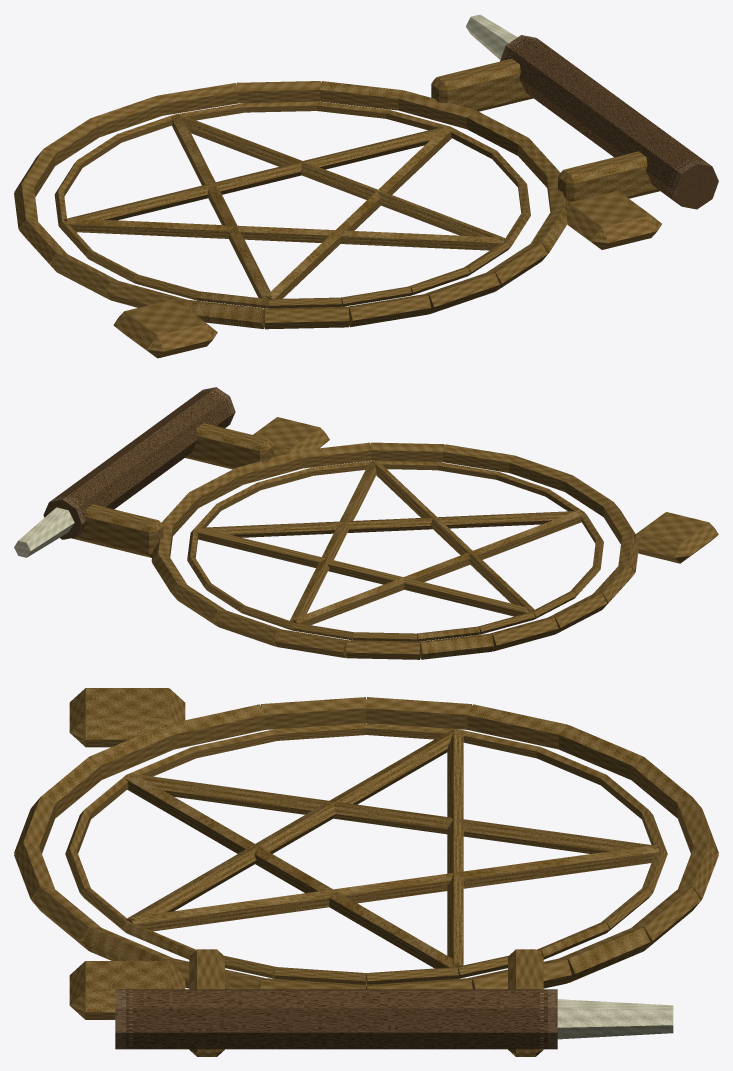
File: blender_chalk_sigil_kit_3.glb
3 views of the same model, one above another, from view 1: azimuth 30°, elevation 25°; view 2: azimuth 150°, elevation 25°; view 3: azimuth 270°, elevation 25° (orthographic). The views are drawn at different scales.
Parts seen in each view (by area): view 1: blender_chalk_sigil_kit_3; view 2: blender_chalk_sigil_kit_3; view 3: blender_chalk_sigil_kit_3.
Boxes of the visible parts, <box> form: blender_chalk_sigil_kit_3: <box>14,14,718,358</box>; blender_chalk_sigil_kit_3: <box>14,387,718,659</box>; blender_chalk_sigil_kit_3: <box>14,688,718,1056</box>.
Bounding box in the file's own units: 0.213 × 0.018 × 0.1769.
Materials: 3 (3 with a texture image).
